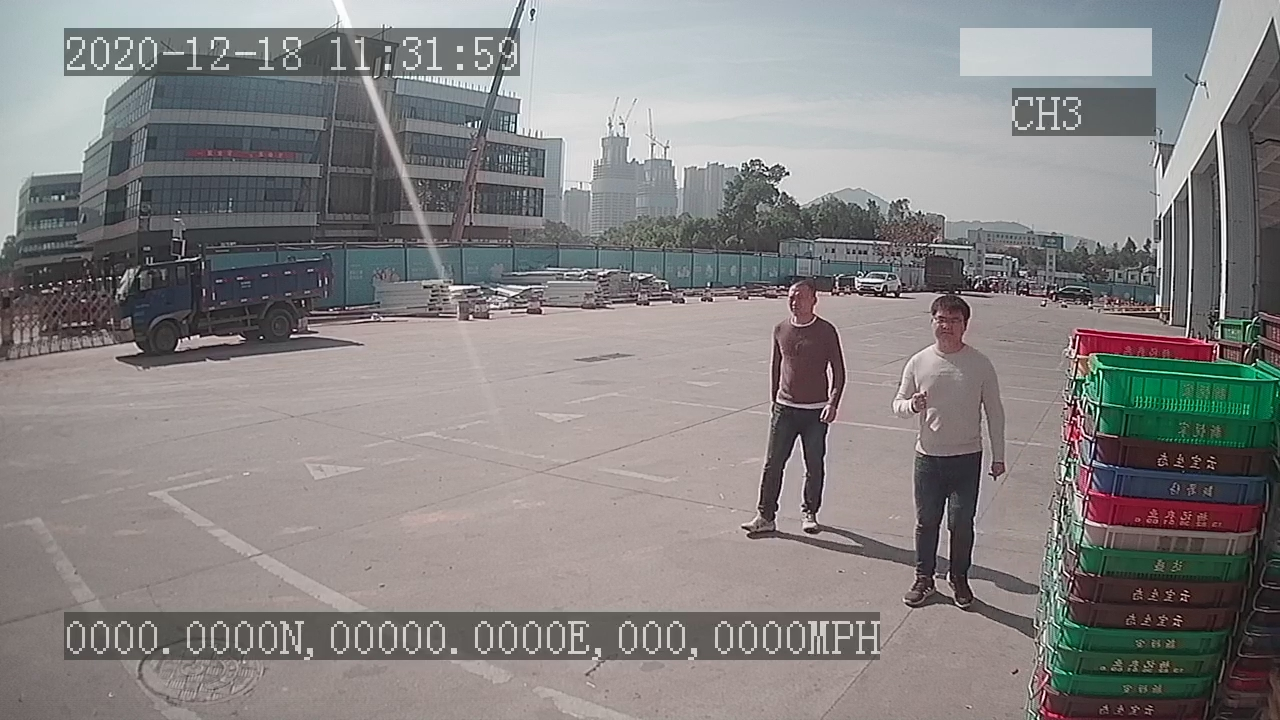person: (890, 294, 1004, 608), (742, 275, 850, 540)
